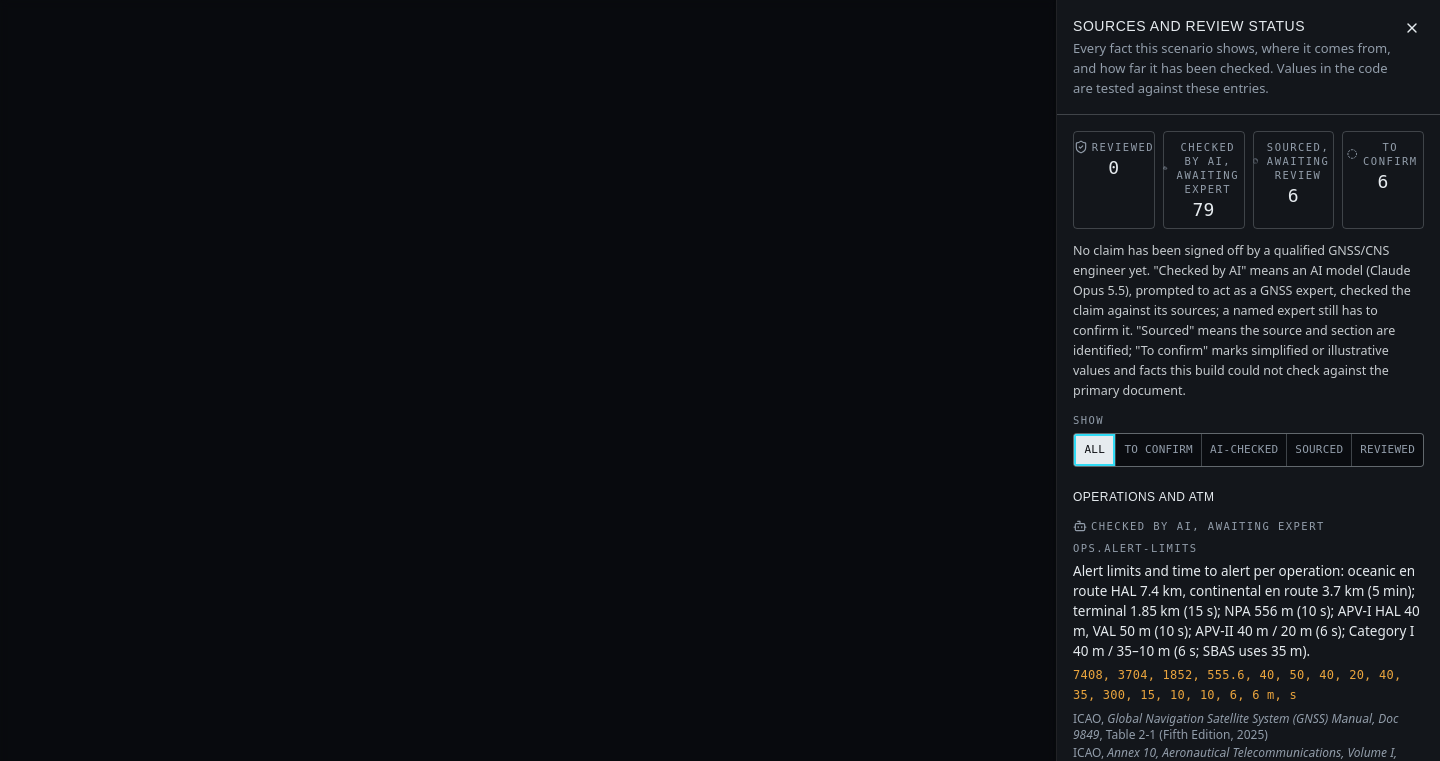
filters by status
Click the radio button with aria-label "Show the claims to confirm": (1159, 450) [1116,434,1201,466]
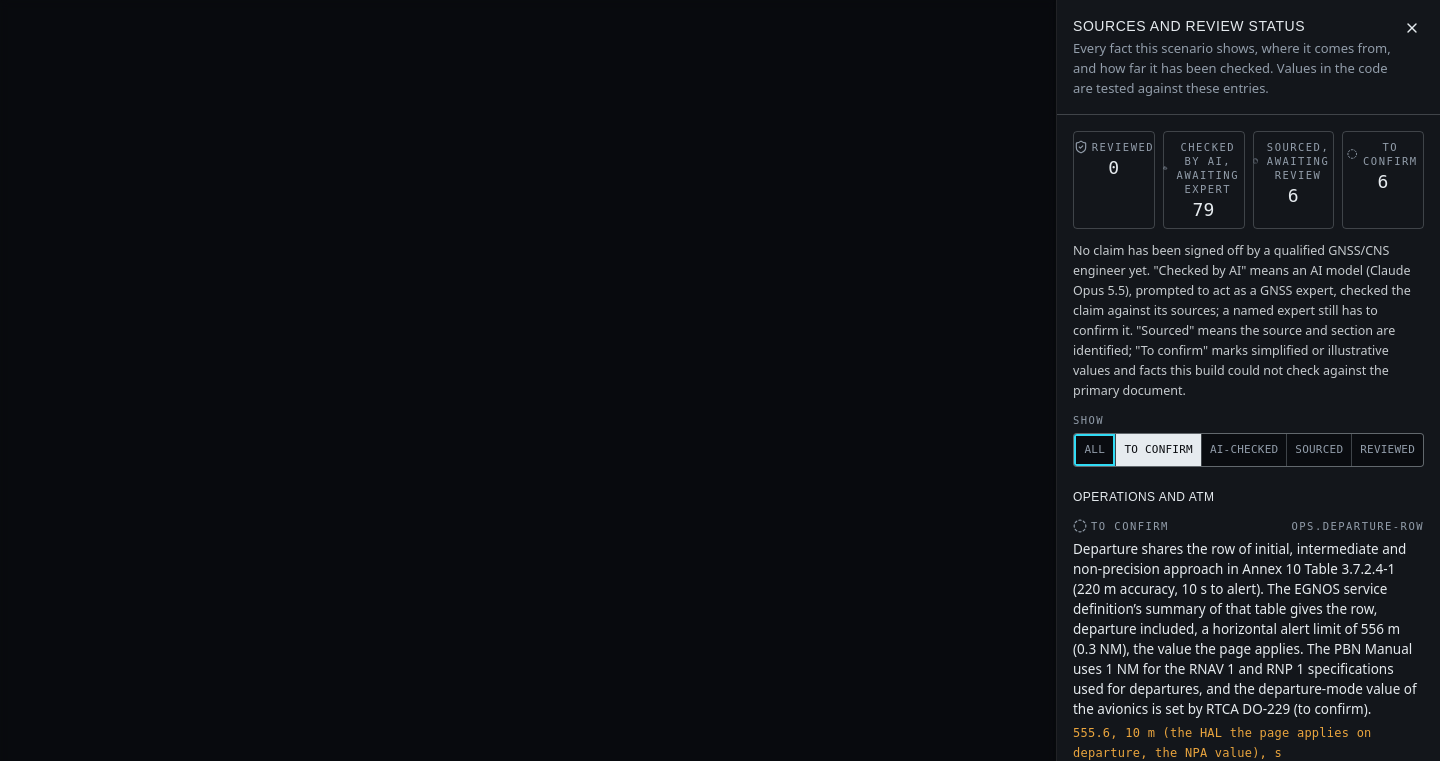
Click the radio button with aria-label "Show the claims checked by AI": (1244, 450) [1202,434,1286,466]
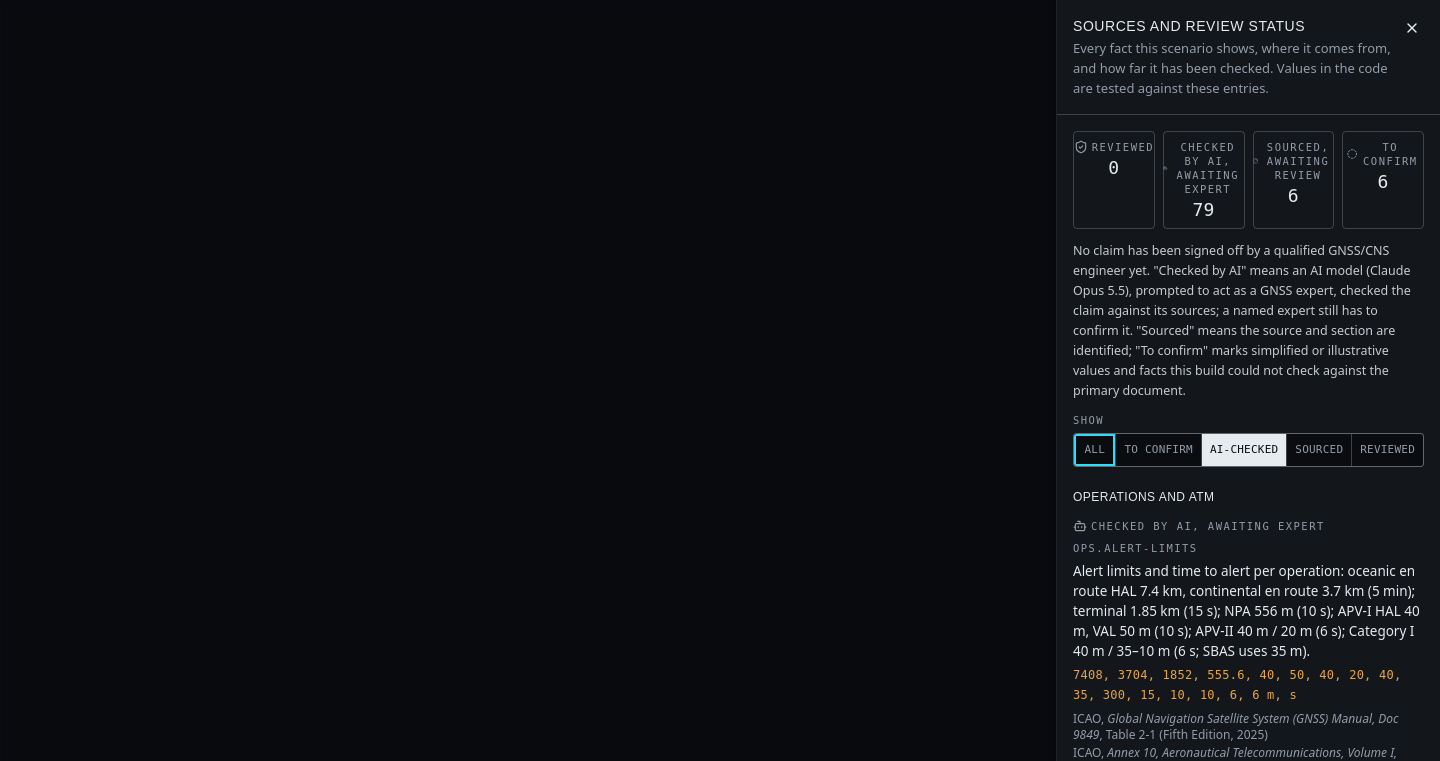
Click the radio button with aria-label "Show the reviewed claims": (1388, 450) [1352,434,1423,466]
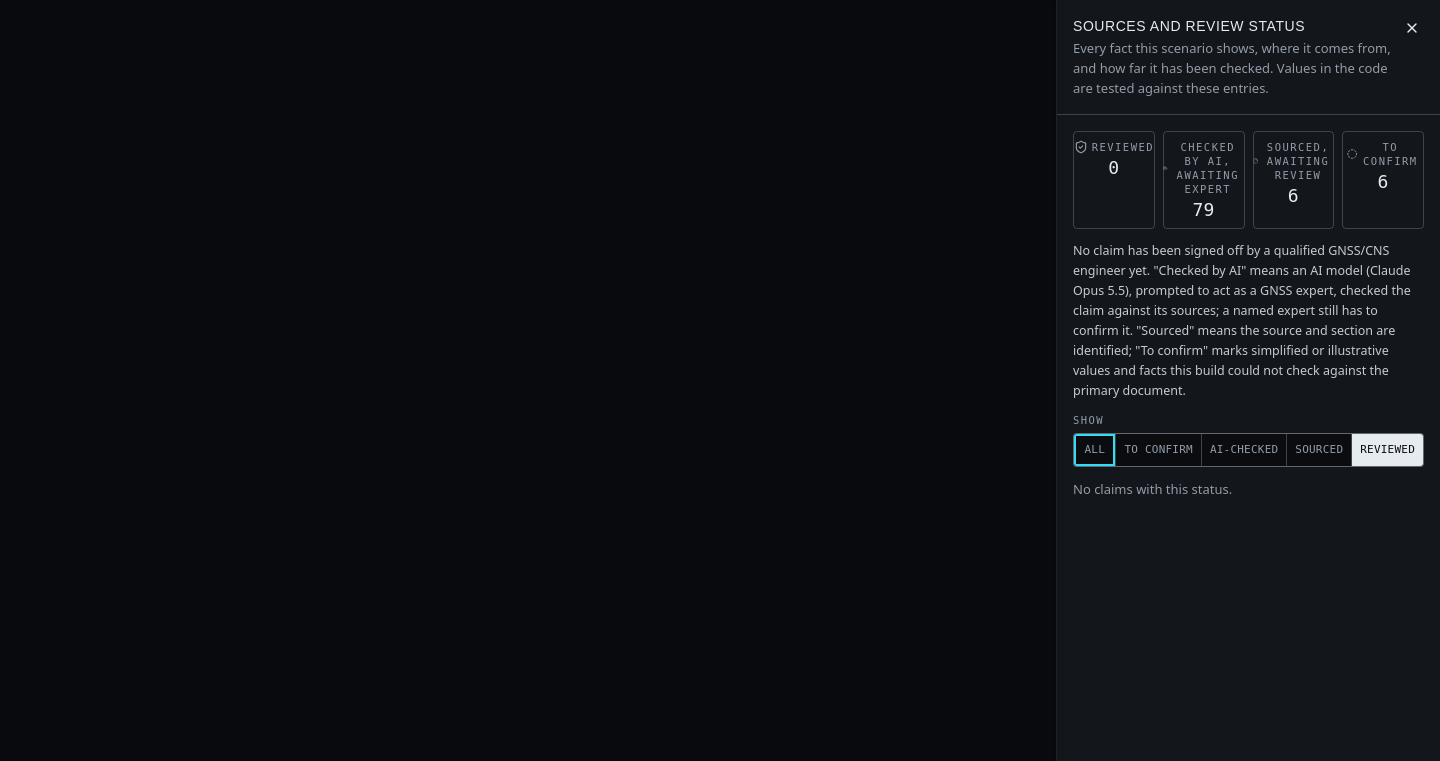
Result: the text "No claims with this status." is shown at [1073,480,1232,498]
